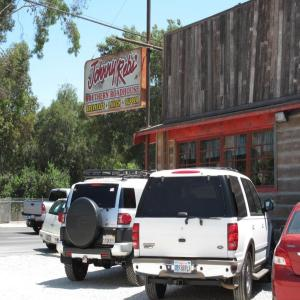Vehicle-registration-plate: (174, 259, 191, 274), (104, 236, 116, 245)
